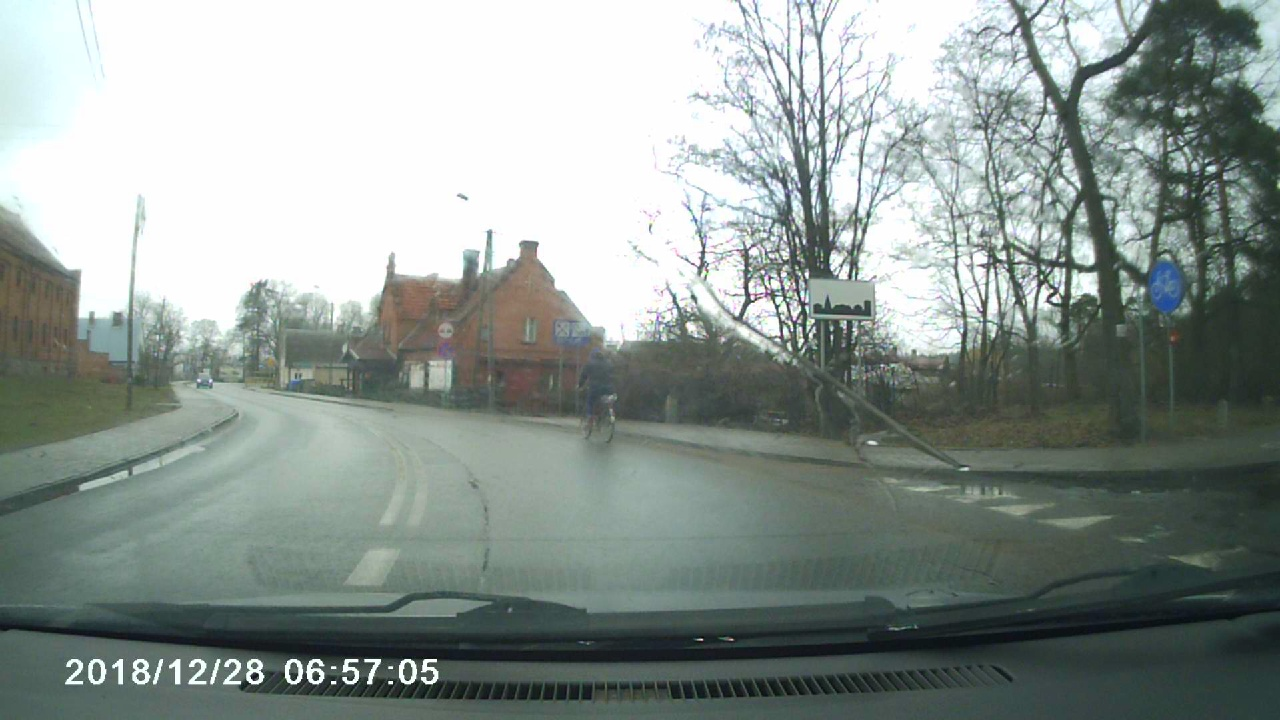D42: (796, 274, 885, 328)
